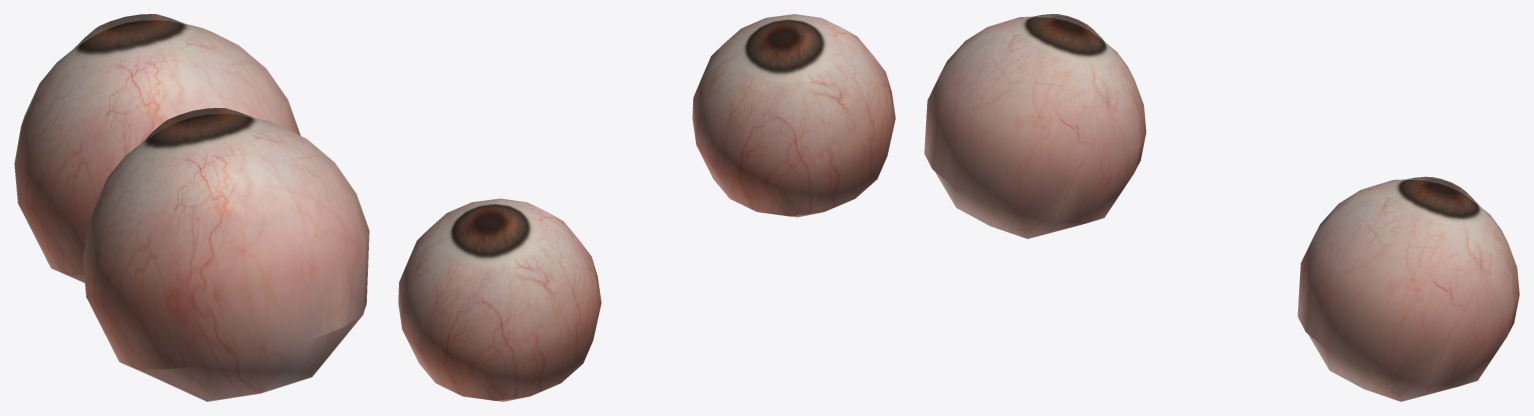
Rendered from yeux_Juliana.fbx.
The picture shows the model from 3 angles, left to right: view 1: azimuth 30°, elevation 25°; view 2: azimuth 150°, elevation 25°; view 3: azimuth 270°, elevation 25°; orthographic projection. The views are drawn at different scales.
Visible parts, largest first — view 1: CC_Base_Eye.002; view 2: CC_Base_Eye.002; view 3: CC_Base_Eye.002.
Part boxes in pixels (left/top/right/bottom): CC_Base_Eye.002: left=14, top=14, right=369, bottom=401; CC_Base_Eye.002: left=398, top=14, right=895, bottom=401; CC_Base_Eye.002: left=924, top=14, right=1519, bottom=401.
Size of the model in its own units: 0.0541 by 0.0851 by 0.0476.
